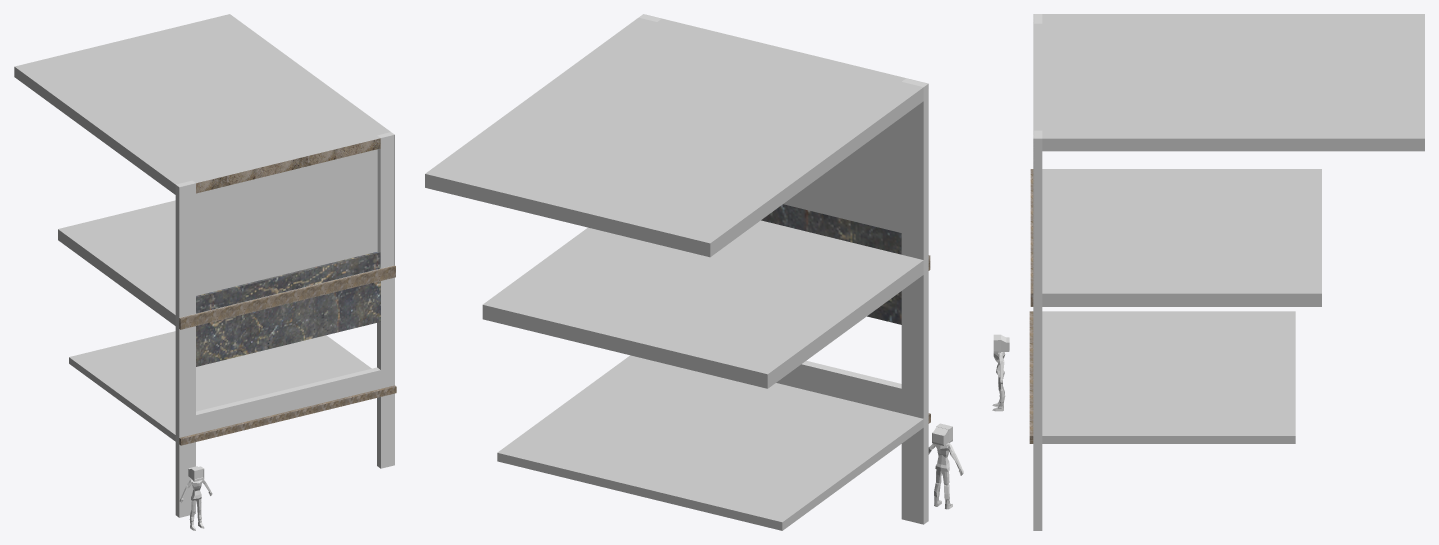
Rendered from MallWall.fbx.
3 renders of one model, left to right at view 1: azimuth 30°, elevation 25°; view 2: azimuth 150°, elevation 25°; view 3: azimuth 270°, elevation 25°, orthographic. The views are drawn at different scales.
Visible parts, largest first — view 1: Cube, Cube.001; view 2: Cube, Cube.001; view 3: Cube, Cube.001.
Boxes of the visible parts, box(x1,y1,x2,y2) form: Cube: box(14, 14, 396, 517); Cube.001: box(179, 466, 212, 530); Cube: box(425, 14, 930, 530); Cube.001: box(928, 423, 963, 509); Cube: box(1029, 14, 1424, 530); Cube.001: box(992, 334, 1009, 411).
Size of the model in its own units: 7147 by 9896 by 9893.
